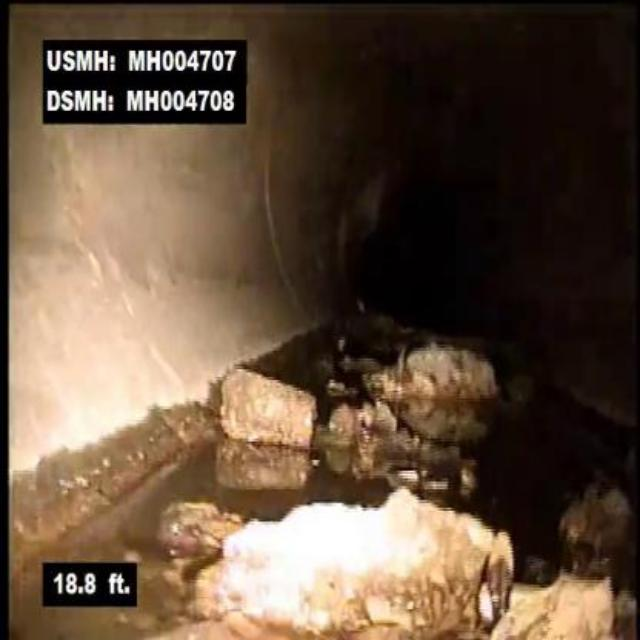Obstacle: (197, 460, 569, 638), (366, 329, 498, 428), (218, 357, 323, 455)
